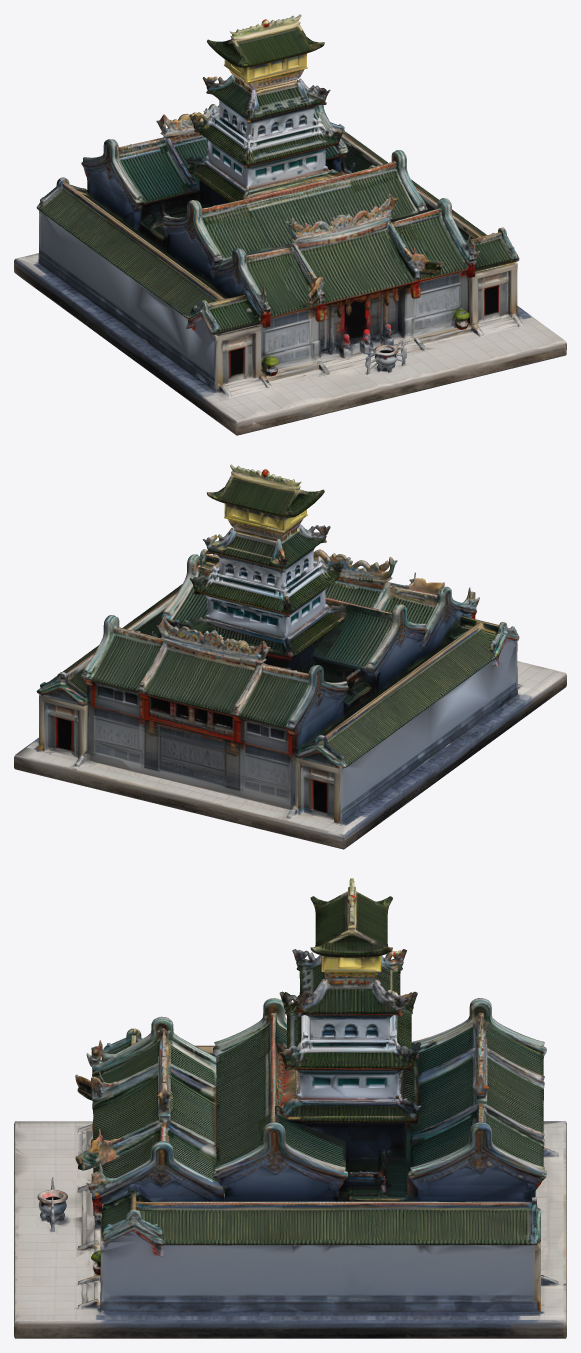
File: hoiquannghiaan-v1.glb
The picture shows the model from 3 angles, top to bottom: view 1: azimuth 30°, elevation 25°; view 2: azimuth 150°, elevation 25°; view 3: azimuth 270°, elevation 25°; orthographic projection. The views are drawn at different scales.
Visible parts, largest first — view 1: node_0; view 2: node_0; view 3: node_0.
Part boxes in pixels (box(x1,y1,x2,y2)): node_0: box(14, 14, 566, 435); node_0: box(14, 464, 566, 849); node_0: box(14, 878, 566, 1338).
Bounding box in the file's own units: 0.6956 × 0.557 × 0.8114.
Materials: 1 (1 with a texture image).
